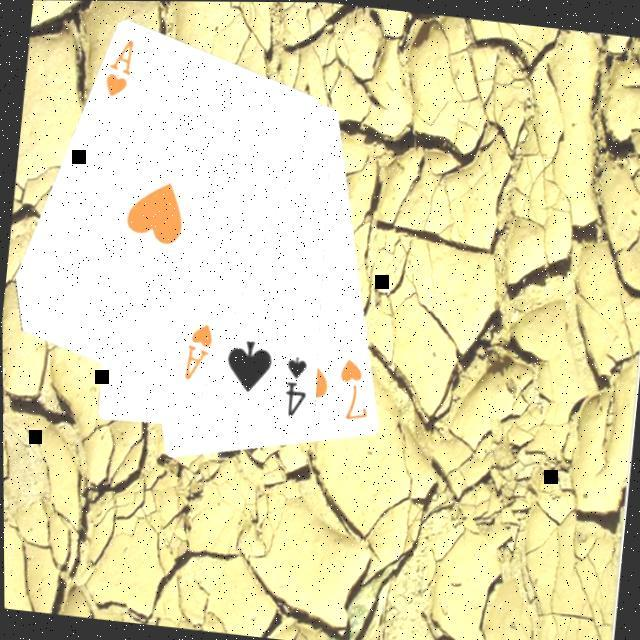4S: (276, 350, 311, 419)
7H: (329, 351, 374, 423)
AH: (177, 315, 216, 384), (98, 30, 136, 100)
